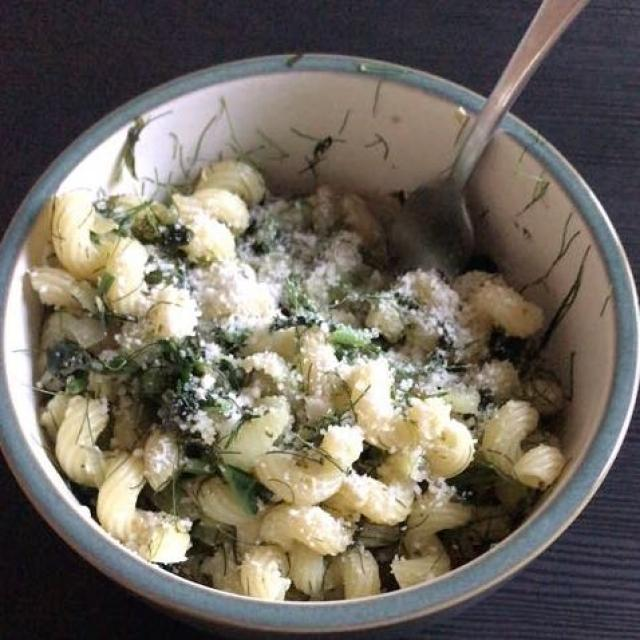cashews: (49, 177, 532, 515)
pasta: (39, 156, 564, 587)
